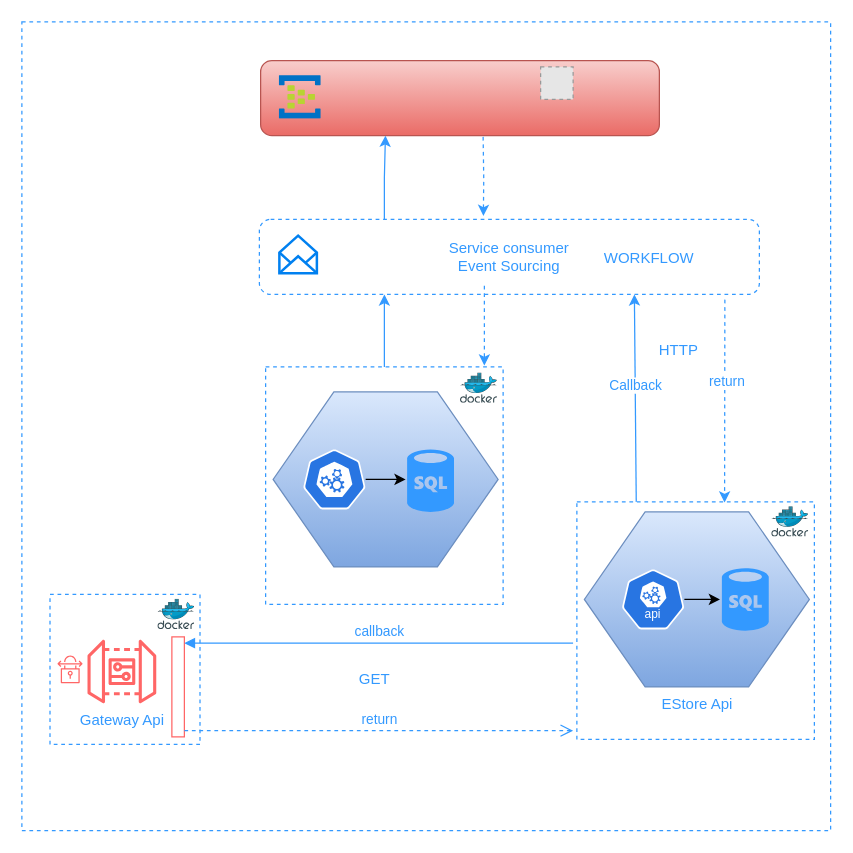
Image size: 853x853. Some labels were removed from this diagram. Grey dashed boxes stand in for pictures. Here are the shapes that lost their labels. From the top down, the box of each, then its label:
(259, 59, 659, 136): Event Bus - Rabbit MQ (Publish / subscribe with topics)
(272, 391, 498, 567): Orchestrator Service
